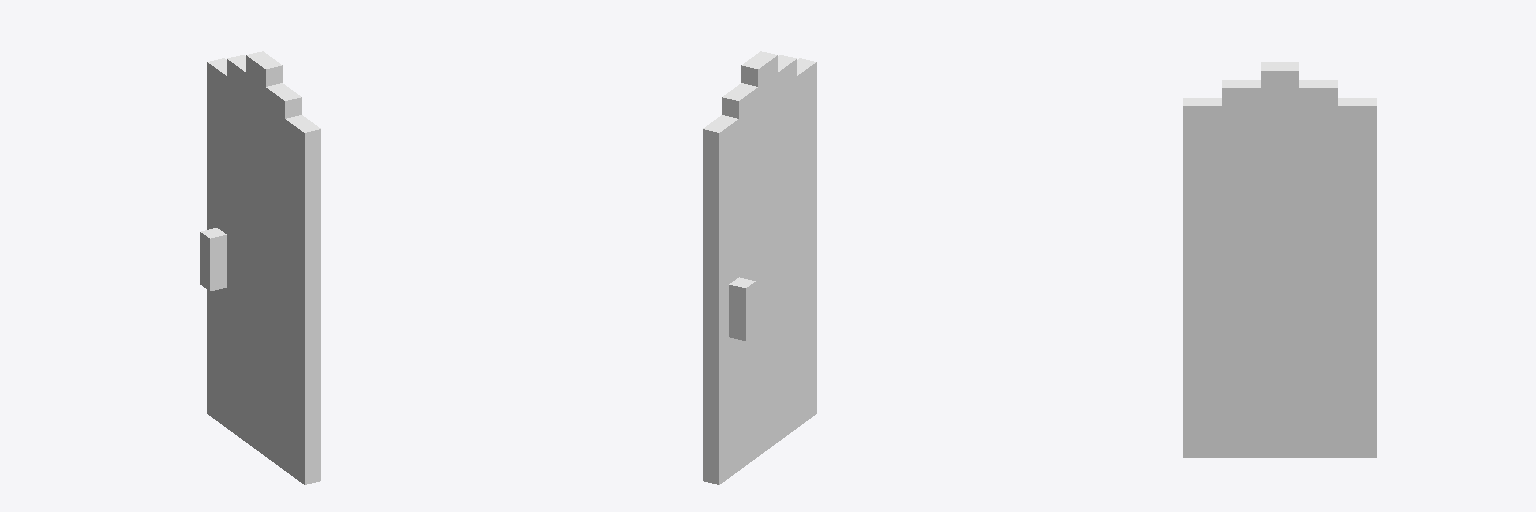
File: Desert-1-Door_Wooden.obj
3 views of the same model, side by side, from view 1: azimuth 30°, elevation 25°; view 2: azimuth 150°, elevation 25°; view 3: azimuth 270°, elevation 25° (orthographic).
Parts seen in each view (by area): view 1: Door_Wooden; view 2: Door_Wooden; view 3: Door_Wooden.
Part boxes in pixels (x1,y1,x2,y2): Door_Wooden: (200, 51, 320, 484); Door_Wooden: (703, 51, 816, 484); Door_Wooden: (1183, 62, 1376, 457).
Bounding box in the file's own units: 0.2 × 2.2 × 1.